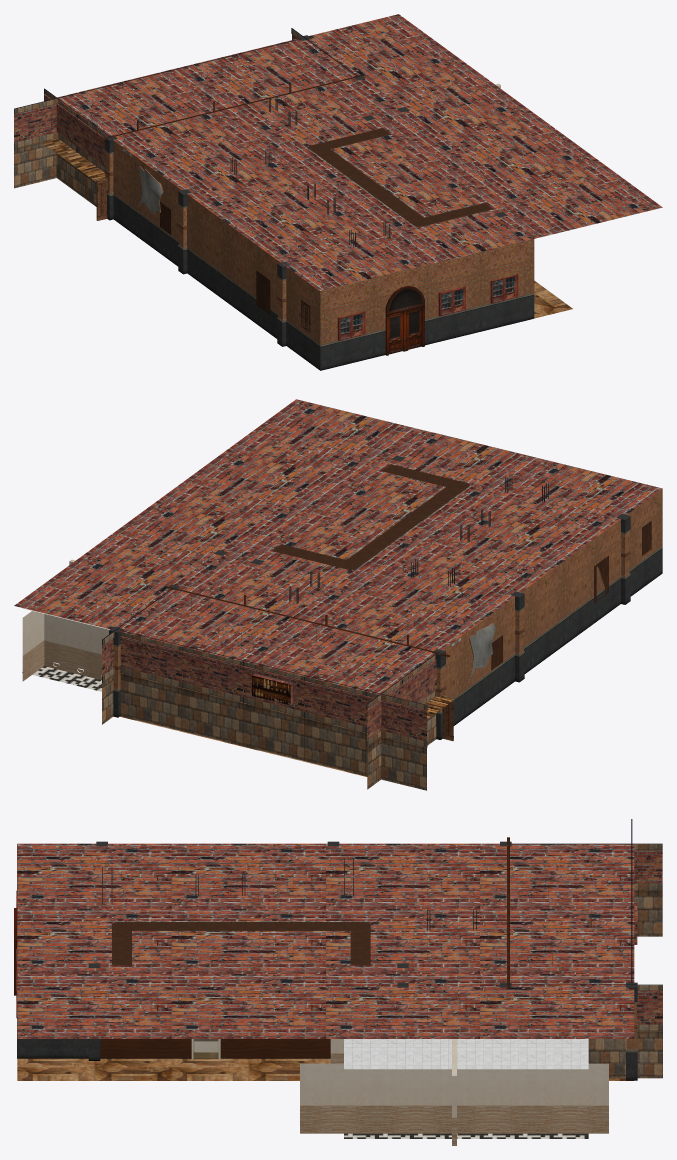
The model's file is bar_end.fbx.
The picture shows the model from 3 angles, top to bottom: view 1: azimuth 30°, elevation 25°; view 2: azimuth 150°, elevation 25°; view 3: azimuth 270°, elevation 25°; orthographic projection. The views are drawn at different scales.
Visible parts, largest first — view 1: Plane.056, Plane.043, Plane.044, Plane.070, Cube.033, Plane.047, Plane.071, Plane.009, Plane.073, Plane.072, Plane.052, Plane.066 (+5 smaller); view 2: Plane.056, Plane.070, Plane.043, Plane.100, Cube.033, Plane.072, Plane.073, Plane.098, Plane.068, Plane.066; view 3: Plane.056, Plane.097, Plane.100, Plane.101, Plane.070, Plane.009, Plane.025, Cube.033, Plane.031, Plane.098, Plane.068, Plane.038 (+1 smaller).
Part boxes in pixels (left/top/right/bottom): Plane.056: left=56, top=14, right=662, bottom=290; Plane.043: left=113, top=141, right=320, bottom=370; Plane.044: left=320, top=239, right=534, bottom=370; Plane.070: left=14, top=28, right=324, bottom=206; Cube.033: left=308, top=128, right=493, bottom=226; Plane.047: left=385, top=285, right=424, bottom=355; Plane.071: left=42, top=138, right=106, bottom=180; Plane.009: left=324, top=261, right=572, bottom=318; Plane.073: left=277, top=261, right=290, bottom=346; Plane.072: left=178, top=189, right=191, bottom=274; Plane.052: left=337, top=311, right=365, bottom=340; Plane.066: left=104, top=135, right=117, bottom=220; Plane.056: left=14, top=399, right=662, bottom=695; Plane.070: left=102, top=614, right=437, bottom=790; Plane.043: left=442, top=489, right=662, bottom=725; Plane.100: left=22, top=611, right=109, bottom=681; Cube.033: left=273, top=464, right=469, bottom=569; Plane.072: left=510, top=591, right=524, bottom=682; Plane.073: left=616, top=514, right=630, bottom=604; Plane.098: left=22, top=666, right=101, bottom=691; Plane.068: left=109, top=626, right=122, bottom=717; Plane.066: left=432, top=649, right=445, bottom=739; Plane.056: left=17, top=843, right=634, bottom=1038; Plane.097: left=300, top=1039, right=451, bottom=1133; Plane.100: left=457, top=1063, right=608, bottom=1133; Plane.101: left=344, top=1039, right=588, bottom=1069; Plane.070: left=508, top=819, right=662, bottom=1078; Plane.009: left=17, top=1058, right=633, bottom=1080; Plane.025: left=94, top=965, right=399, bottom=1058; Cube.033: left=112, top=922, right=370, bottom=965; Plane.031: left=17, top=966, right=88, bottom=1058; Plane.098: left=344, top=1133, right=588, bottom=1138; Plane.068: left=626, top=982, right=637, bottom=1080; Plane.038: left=193, top=1039, right=218, bottom=1058.
Size of the model in its own units: 2149 by 480 by 2524.
5 materials, 4 textured.
